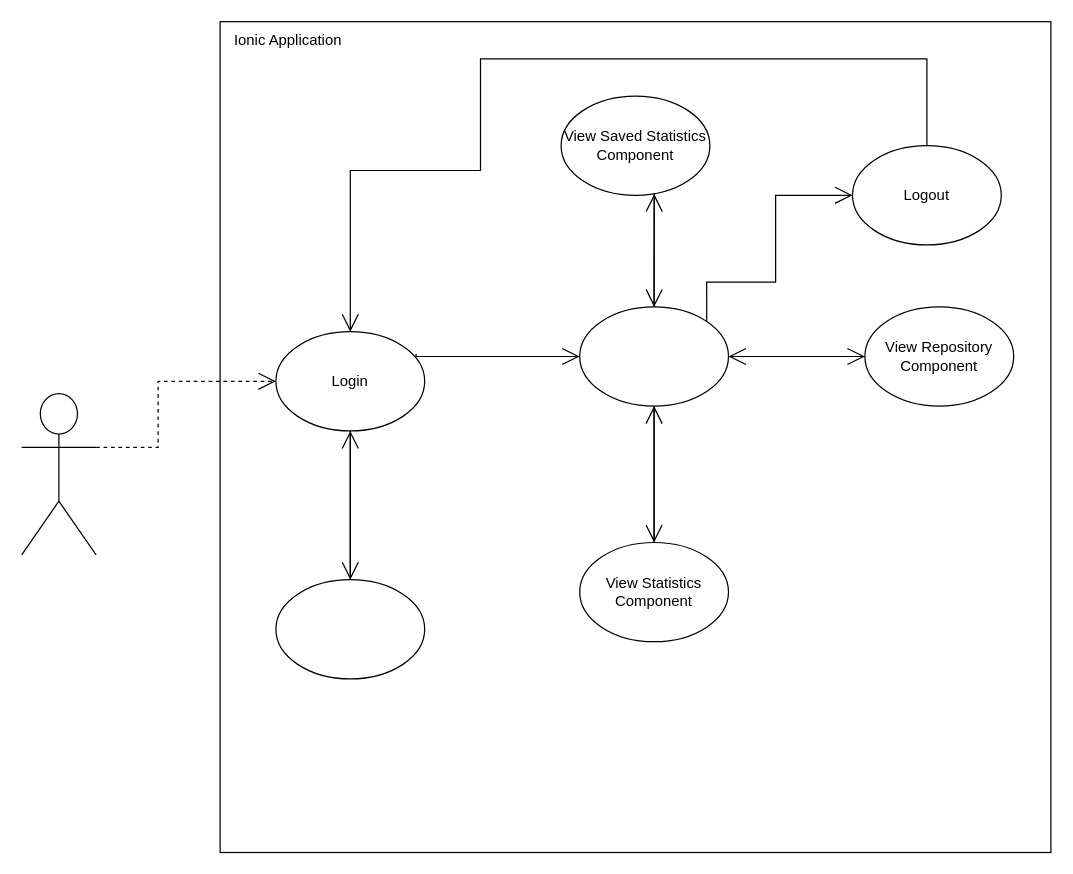
This 1073x874 diagram has some shape labels left out. Here are the shapes that lost their labels. From the top down, the centre of each, then its label:
pixel 653 356: Main Home Component
pixel 58 473: User
pixel 350 628: Register
